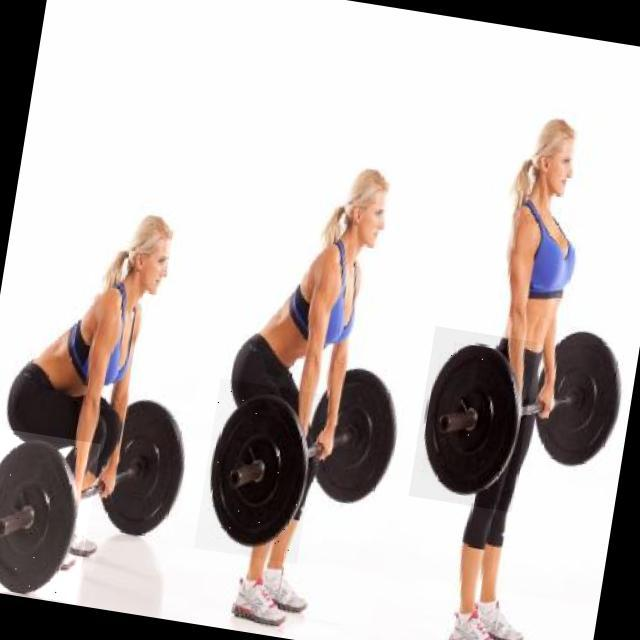barbell: (410, 327, 540, 513), (195, 380, 325, 566), (1, 427, 102, 604)
